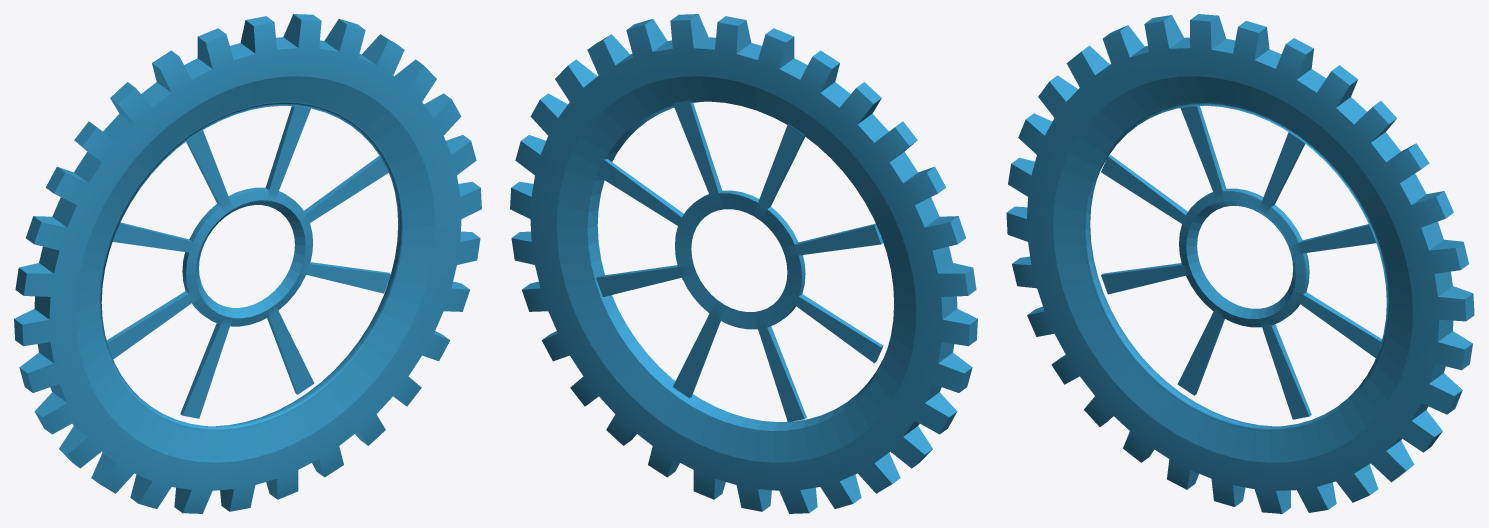
Rendered from Gear_Diam_03_Size_4.fbx.
The picture shows the model from 3 angles, left to right: view 1: azimuth 30°, elevation 25°; view 2: azimuth 150°, elevation 25°; view 3: azimuth 330°, elevation 25°; orthographic projection.
Visible parts, largest first — view 1: Gear_Diam_03_Size_4; view 2: Gear_Diam_03_Size_4; view 3: Gear_Diam_03_Size_4.
Boxes of the visible parts, x1,y1,x2,y2 form: Gear_Diam_03_Size_4: [14, 14, 481, 513]; Gear_Diam_03_Size_4: [510, 14, 977, 513]; Gear_Diam_03_Size_4: [1006, 14, 1474, 513].
Bounding box in the file's own units: 37.9 × 37.9 × 2.14.
